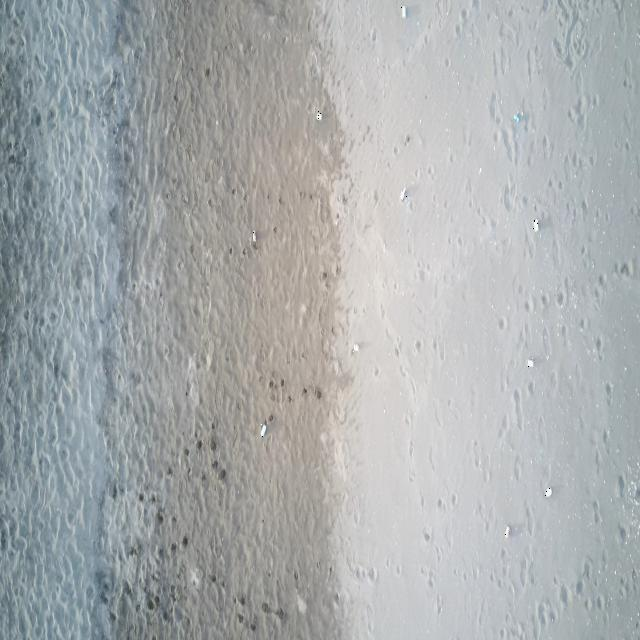Garbage: (512, 111, 523, 123), (260, 420, 266, 436), (400, 187, 407, 200), (400, 4, 406, 18), (532, 218, 537, 231), (352, 343, 359, 352), (316, 110, 322, 120), (504, 526, 510, 536), (544, 487, 551, 495), (252, 230, 256, 243), (527, 359, 532, 367)
